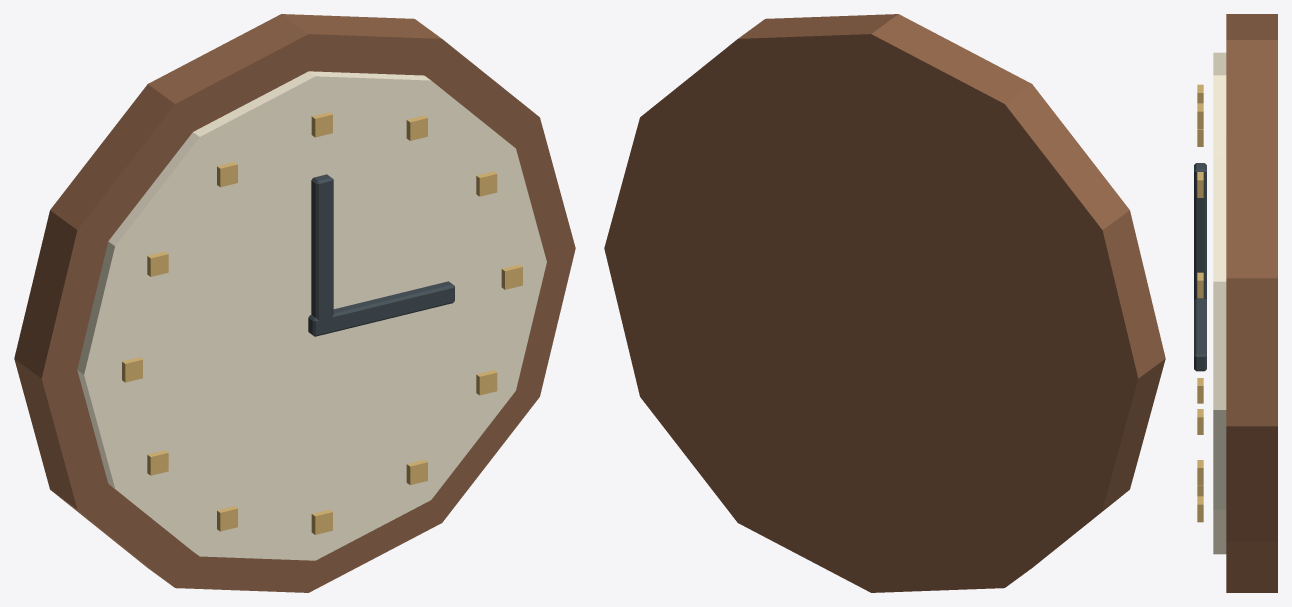
The model's file is SM_CH_Paper_Clock.fbx.
3 renders of one model, left to right at view 1: azimuth 30°, elevation 25°; view 2: azimuth 150°, elevation 25°; view 3: azimuth 270°, elevation 25°, orthographic. The views are drawn at different scales.
Parts seen in each view (by area): view 1: SM_CH_Paper_Clock; view 2: SM_CH_Paper_Clock; view 3: SM_CH_Paper_Clock.
Boxes of the visible parts, box(x1,y1,x2,y2) form: SM_CH_Paper_Clock: box(14, 14, 575, 592); SM_CH_Paper_Clock: box(604, 14, 1165, 592); SM_CH_Paper_Clock: box(1194, 14, 1277, 592).
Bounding box in the file's own units: 9000 × 1300 × 9000.
